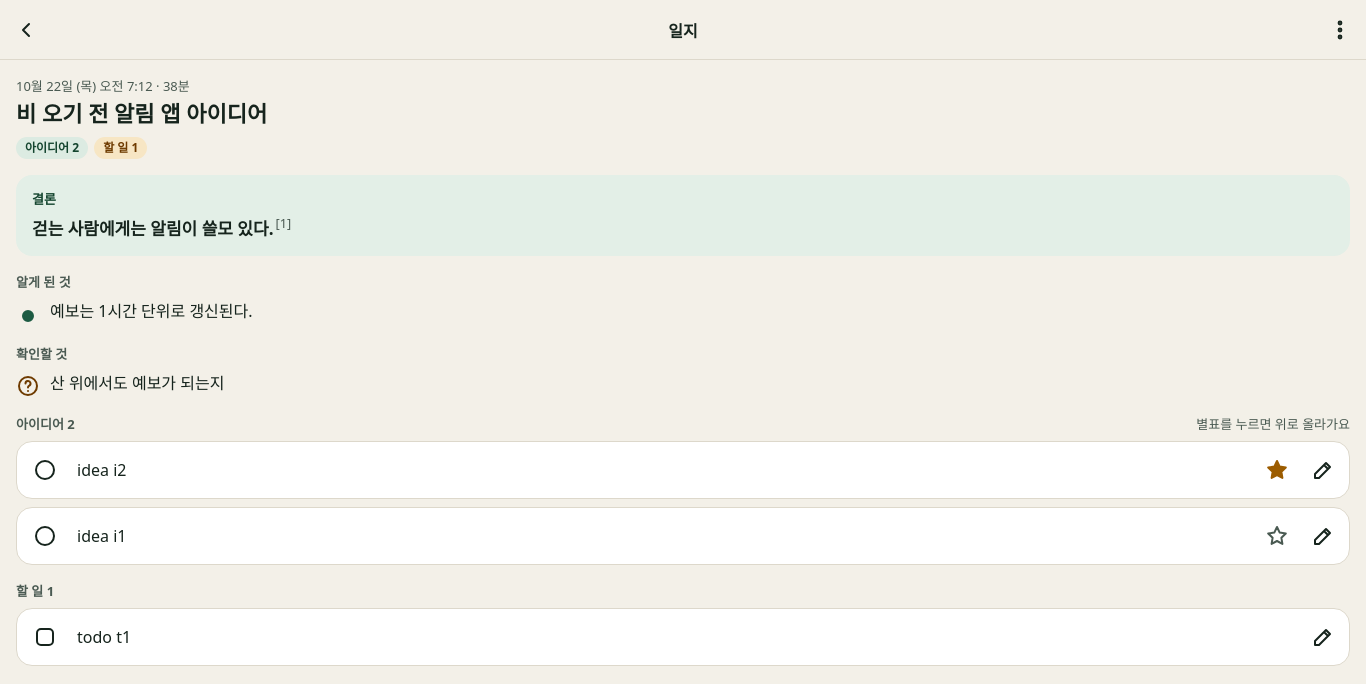
Scenario: JournalDetailScreen 노트·제목·삭제 › 노트 내용을 고친다(저장 전에는 보내지 않는다)
Click the button named "아이디어 수정" in the row of "idea i1": point(1323, 536) x1=1301 y1=514 x2=1345 y2=558
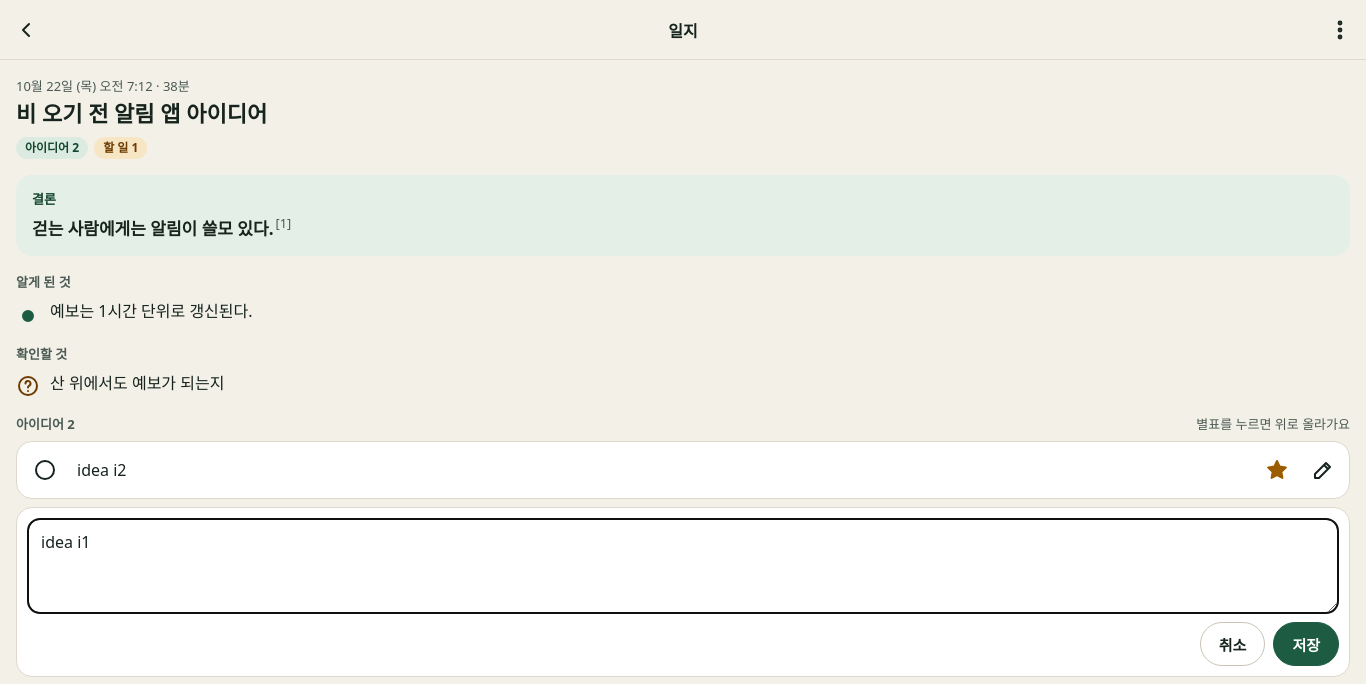
Replace the text in the text box named "아이디어 내용" with "고친 내용": point(683, 566) x1=27 y1=518 x2=1339 y2=614
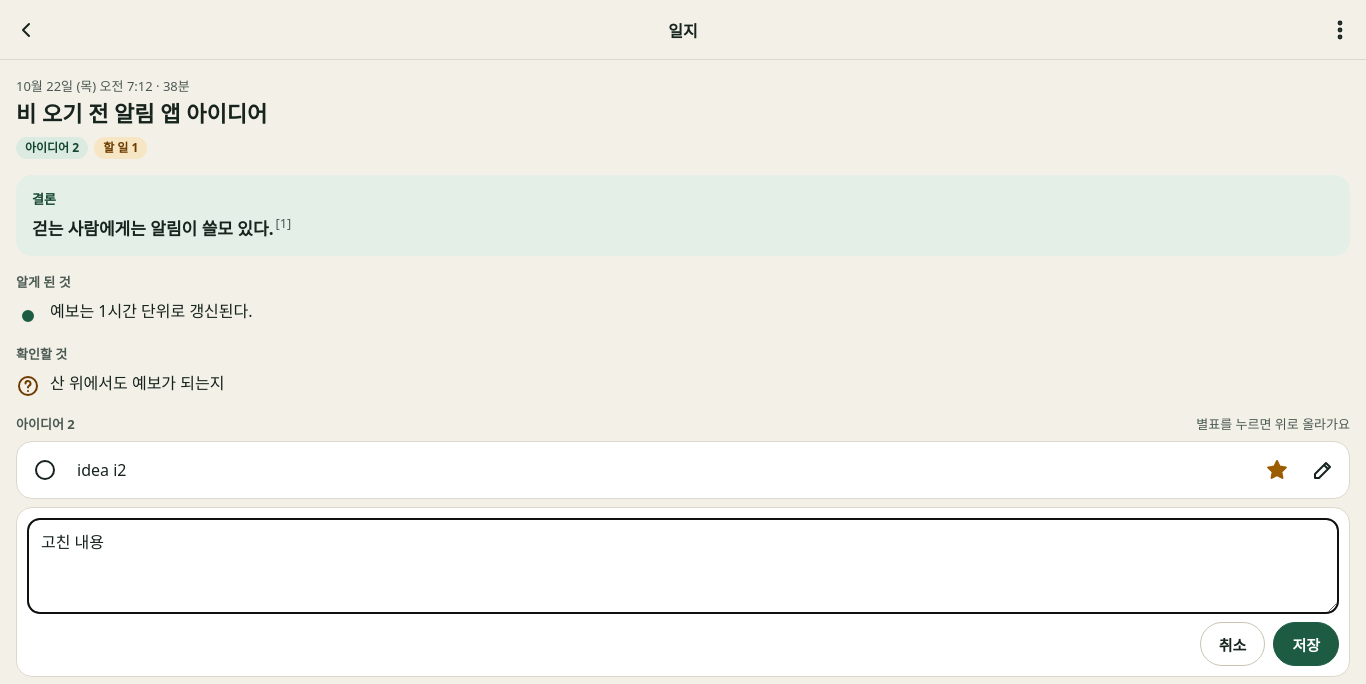
Click the button "저장": point(1306, 644) x1=1273 y1=622 x2=1339 y2=666
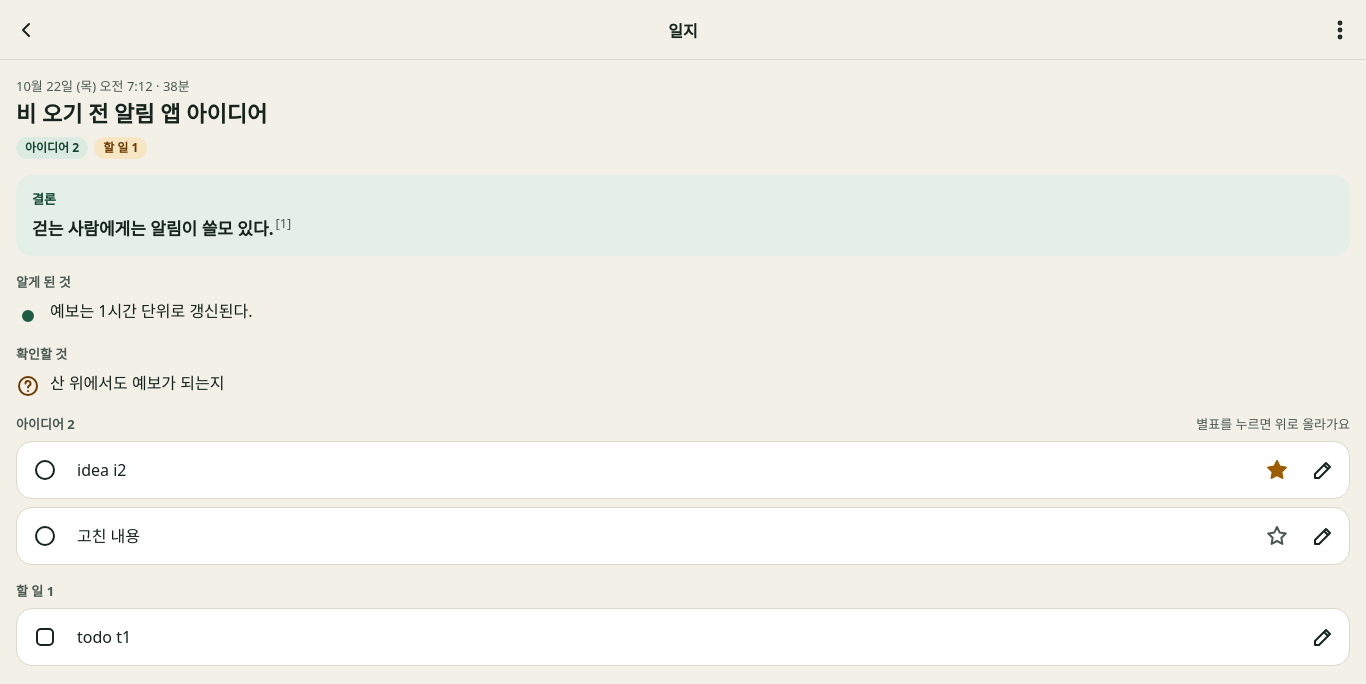
Check: the text "고친 내용" is shown, box x1=77 y1=526 x2=140 y2=548
